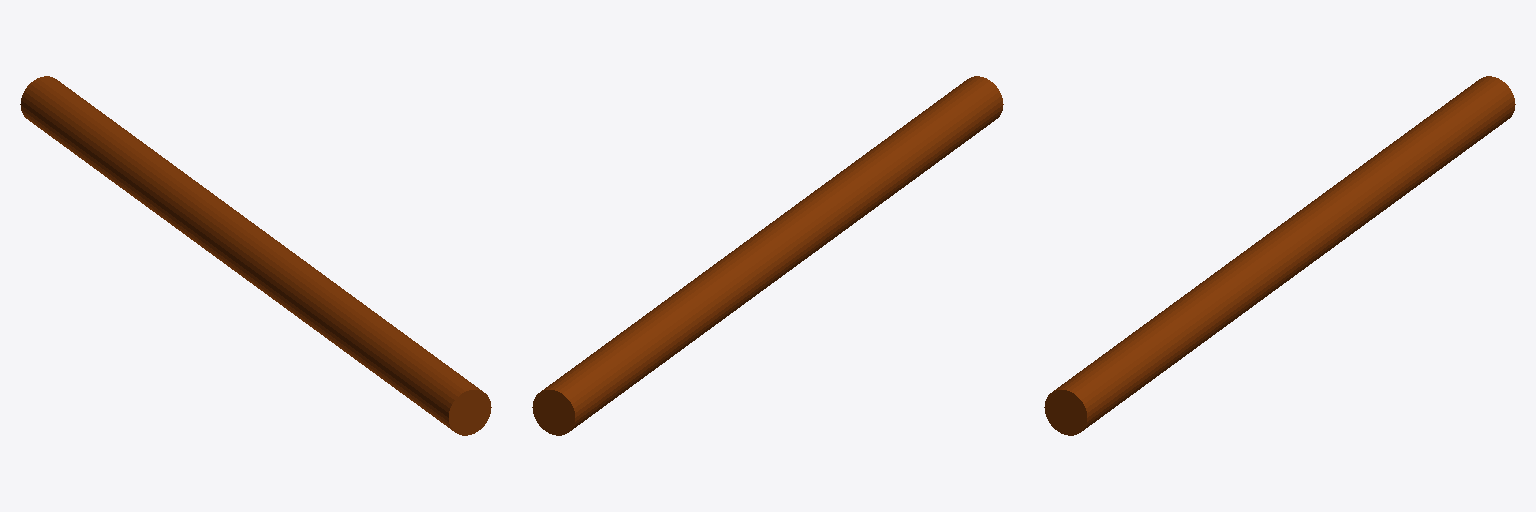
URDF robot description (cylinder):
<?xml version="1.0" ?>
<!-- =================================================================================== -->
<!-- |    This document was autogenerated by xacro from cylinder.xacro                 | -->
<!-- |    EDITING THIS FILE BY HAND IS NOT RECOMMENDED                                 | -->
<!-- =================================================================================== -->
<robot name="cylinder">
  <link name="world"/>
  <link name="base">
    <visual>
      <origin rpy="1.57079633 0 0" xyz="0 0 0"/>
      <geometry>
        <cylinder length="7.07106781185" radius="0.205"/>
      </geometry>
      <material name="cylinder_material">
        <color rgba="0.545 0.271 0.075 1.0"/>
        <texture filename="../textures/tree_bark.jpg"/>
      </material>
    </visual>
    <collision>
      <origin rpy="1.57079633 0 0" xyz="0 0 0"/>
      <geometry>
        <cylinder length="7.07106781185" radius="0.205"/>
      </geometry>
    </collision>
    <inertial>
      <origin rpy="0 0 0" xyz="0 0 0"/>
      <mass value="1"/>
      <inertia ixx="4.177172916648429" ixy="0.0" ixz="0.0" iyy="4.177172916648429" iyz="0.0" izz="24.999999999890573"/>
    </inertial>
  </link>
  <joint name="base_joint" type="fixed">
    <parent link="world"/>
    <child link="base"/>
    <origin rpy="0 0 0" xyz="0.0 0.0 0.0"/>
  </joint>
</robot>

--- Render facts (derived) ---
3 views of the same robot in one strip: view 1: azimuth 30°, elevation 25°; view 2: azimuth 150°, elevation 25°; view 3: azimuth 330°, elevation 25° (orthographic).
Robot: cylinder — 2 links, 1 joints (1 fixed); root link world; default pose: all joints at 0.
Visible links, largest first — view 1: base; view 2: base; view 3: base.
Boxes of the visible links, x1,y1,x2,y2 form: base: (20, 76, 491, 435); base: (532, 76, 1003, 435); base: (1044, 76, 1515, 435).
Bounding box of the posed robot: 0.41 × 7.07 × 0.41 m (x, y, z).
Geometry: primitives only (box / cylinder / sphere), no mesh files.
